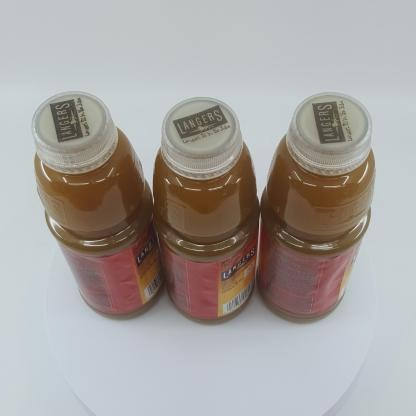-----449ML: (31, 91, 166, 320), (256, 92, 375, 324), (152, 97, 260, 325)
